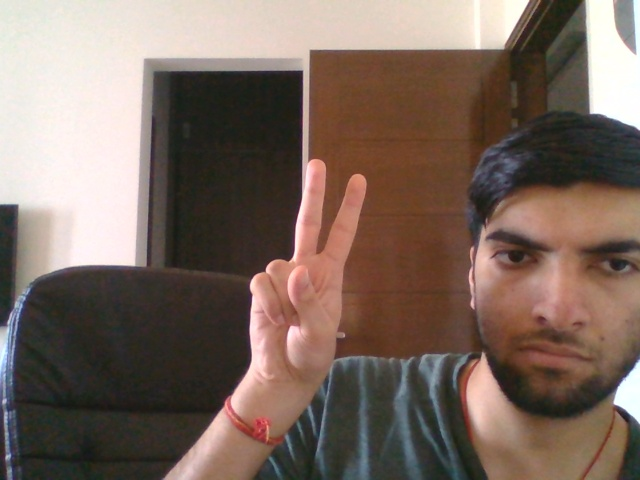LetterV: (246, 154, 368, 394)
